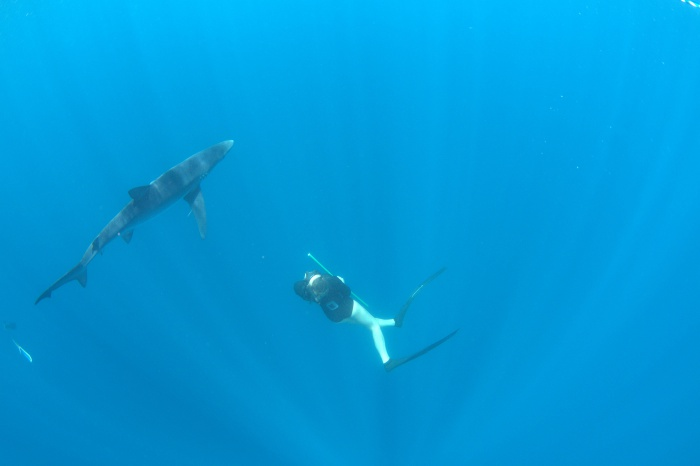Azul: (21, 127, 243, 340)
